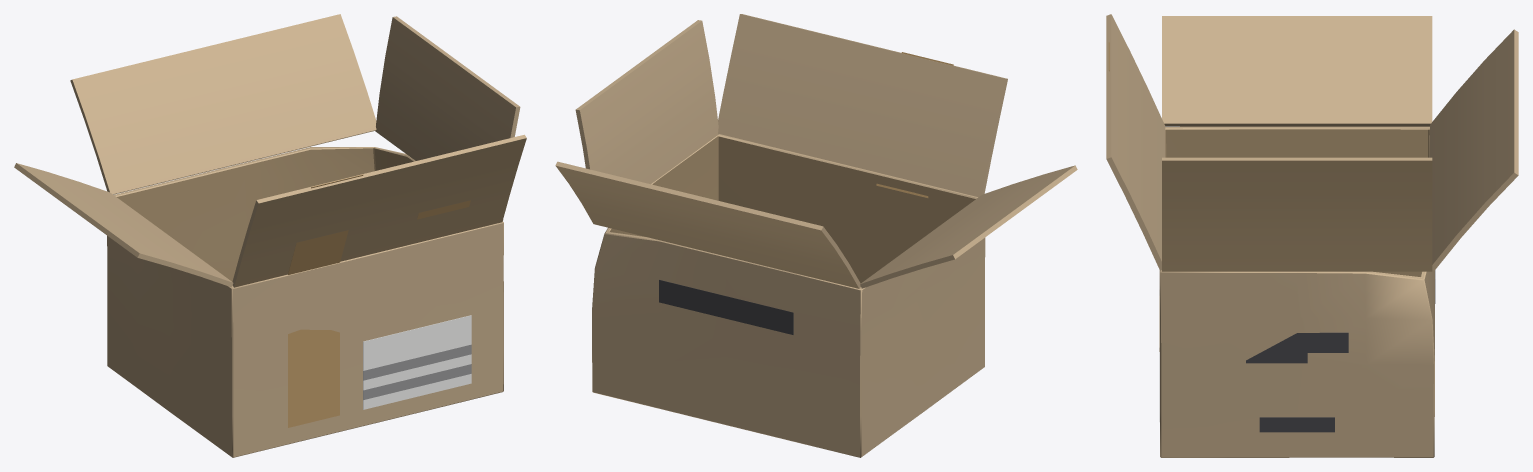
Rendered from paper_cardboard_box_small.fbx.
3 renders of one model, left to right at view 1: azimuth 30°, elevation 25°; view 2: azimuth 150°, elevation 25°; view 3: azimuth 270°, elevation 25°, orthographic. The views are drawn at different scales.
Parts seen in each view (by area): view 1: paper_cardboard_box_small; view 2: paper_cardboard_box_small; view 3: paper_cardboard_box_small.
Part boxes in pixels (<box>): paper_cardboard_box_small: <box>14,14,526,457</box>; paper_cardboard_box_small: <box>555,14,1077,457</box>; paper_cardboard_box_small: <box>1106,14,1518,457</box>.
Size of the model in its own units: 0.3525 by 0.2473 by 0.3005.
